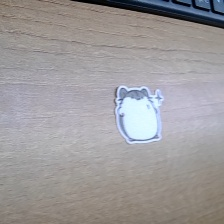mouse: (113, 84, 167, 147)
